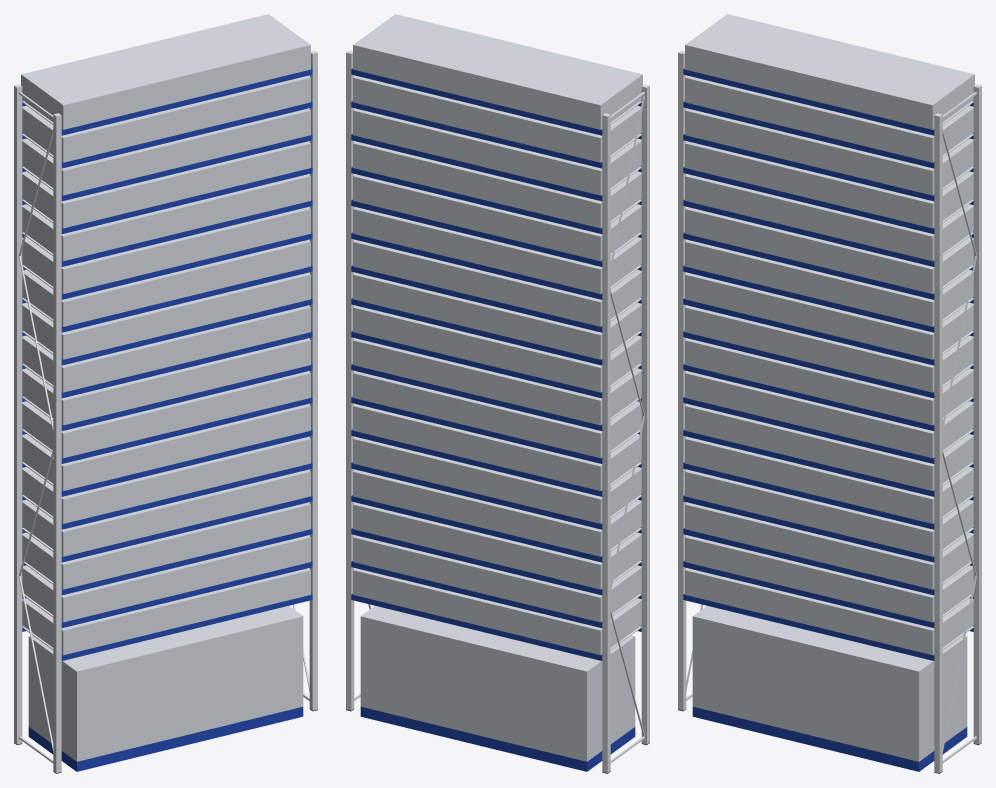
File: SM_MPR_CADRack_F17P1_W144_Standard_LOD2.fbx
The picture shows the model from 3 angles, left to right: view 1: azimuth 30°, elevation 25°; view 2: azimuth 150°, elevation 25°; view 3: azimuth 330°, elevation 25°; orthographic projection.
Visible parts, largest first — view 1: SM_MPR_CADRack_F17P1_W144_Standard_LOD2; view 2: SM_MPR_CADRack_F17P1_W144_Standard_LOD2; view 3: SM_MPR_CADRack_F17P1_W144_Standard_LOD2.
Part boxes in pixels (x1,y1,x2,y2): SM_MPR_CADRack_F17P1_W144_Standard_LOD2: [14, 14, 317, 773]; SM_MPR_CADRack_F17P1_W144_Standard_LOD2: [346, 14, 649, 773]; SM_MPR_CADRack_F17P1_W144_Standard_LOD2: [678, 14, 981, 773].
Size of the model in its own units: 381 by 122 by 929.
